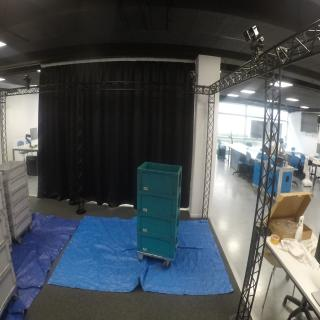BoxB4: (136, 162, 185, 200), (137, 233, 182, 264), (138, 192, 184, 221), (134, 214, 183, 241)
